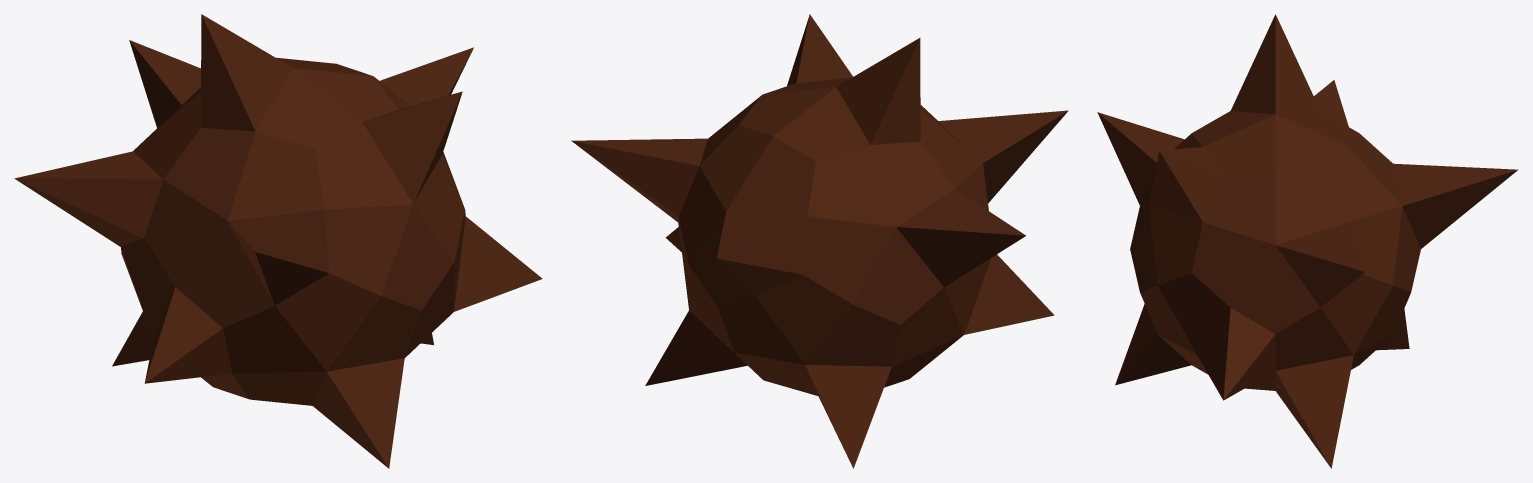
Rendered from FoodIngredient_SeaUrchin.fbx.
3 views of the same model, side by side, from view 1: azimuth 30°, elevation 25°; view 2: azimuth 150°, elevation 25°; view 3: azimuth 270°, elevation 25° (orthographic). The views are drawn at different scales.
Parts seen in each view (by area): view 1: FoodIngredient_SeaUrchin; view 2: FoodIngredient_SeaUrchin; view 3: FoodIngredient_SeaUrchin.
Part boxes in pixels (x1=…): FoodIngredient_SeaUrchin: x1=14, y1=14, x2=542, y2=468; FoodIngredient_SeaUrchin: x1=571, y1=14, x2=1068, y2=468; FoodIngredient_SeaUrchin: x1=1097, y1=14, x2=1518, y2=468.
Size of the model in its own units: 82.07 by 68.97 by 75.79.
